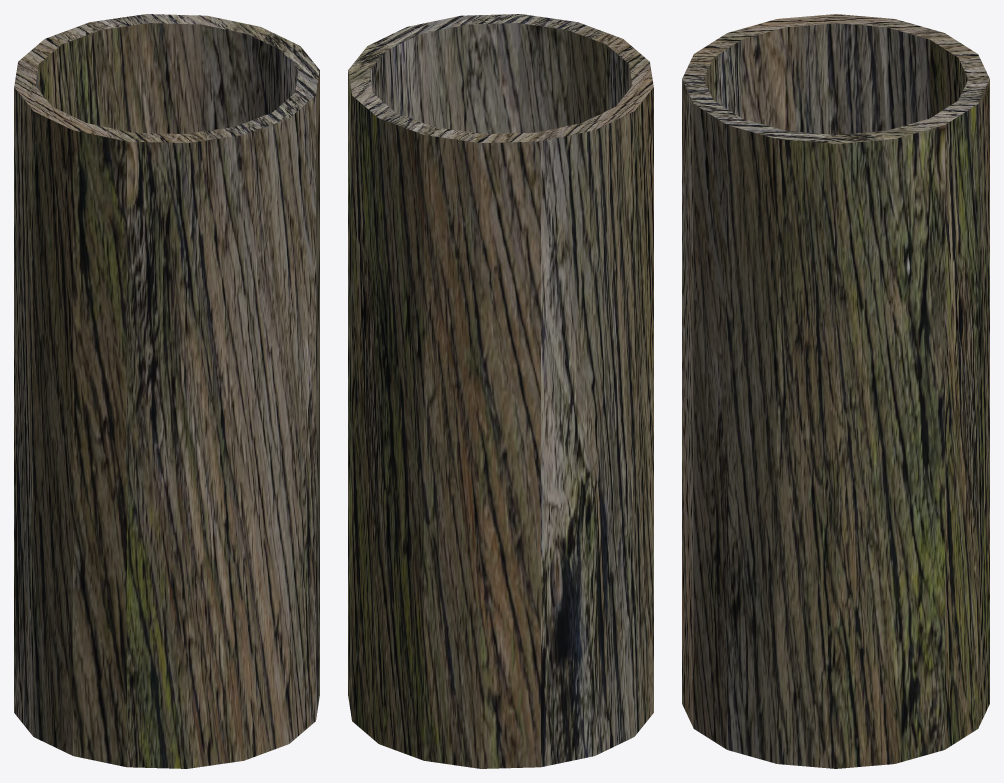
File: hollowLog.glb
The picture shows the model from 3 angles, left to right: view 1: azimuth 30°, elevation 25°; view 2: azimuth 150°, elevation 25°; view 3: azimuth 270°, elevation 25°; orthographic projection.
Parts seen in each view (by area): view 1: Cylinder; view 2: Cylinder; view 3: Cylinder.
Boxes of the visible parts, left/top/right/bottom form: Cylinder: left=14, top=14, right=319, bottom=768; Cylinder: left=348, top=14, right=653, bottom=768; Cylinder: left=682, top=14, right=989, bottom=768.
Size of the model in its own units: 2 by 4.48 by 2.
Materials: 1 (1 with a texture image).
